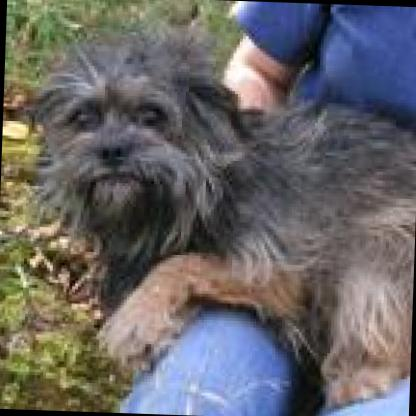affenpinscher: (11, 40, 416, 402)
